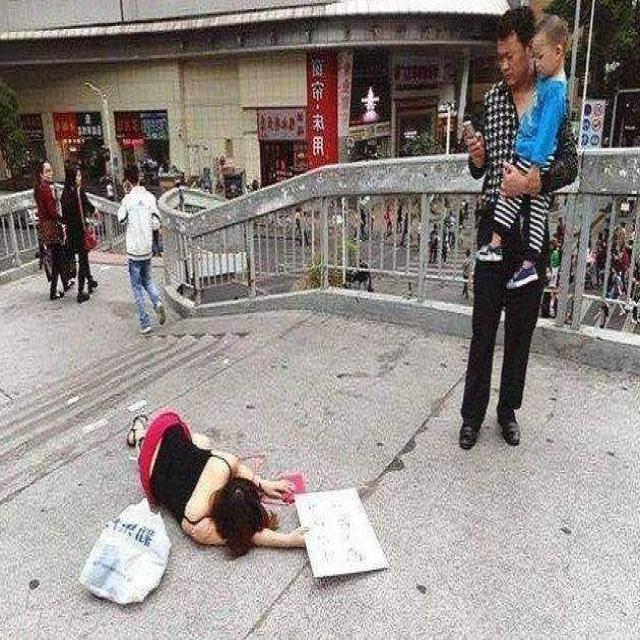nofight: (453, 8, 576, 459), (116, 397, 309, 570), (123, 170, 170, 348), (66, 160, 95, 302), (31, 154, 53, 308)
